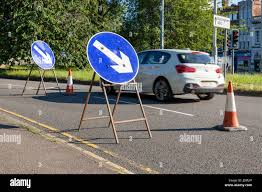car: (100, 48, 226, 100)
cone: (221, 81, 241, 133), (63, 69, 77, 96)
